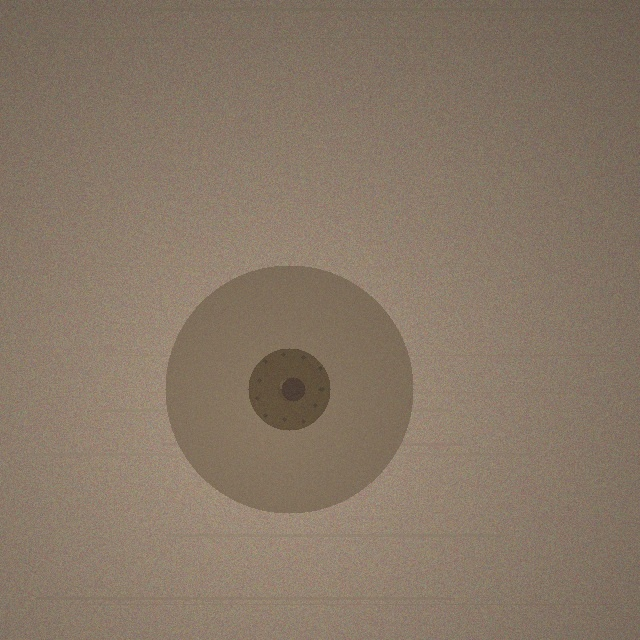cold_weld: (165, 265, 413, 513)
